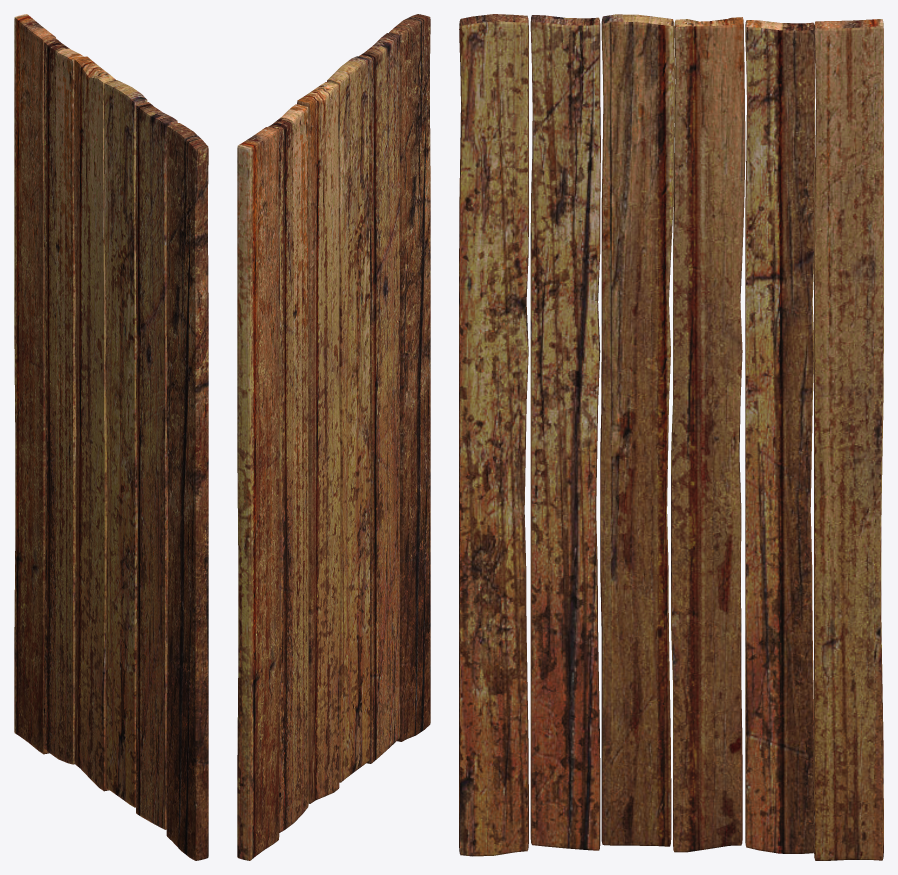
File: 木栅栏03.FBX
The picture shows the model from 3 angles, left to right: view 1: azimuth 30°, elevation 25°; view 2: azimuth 150°, elevation 25°; view 3: azimuth 270°, elevation 25°; orthographic projection. The views are drawn at different scales.
Visible parts, largest first — view 1: Box13; view 2: Box13; view 3: Box13.
Boxes of the visible parts, box(x1,y1,x2,y2) form: Box13: box(14, 14, 208, 860); Box13: box(237, 14, 430, 860); Box13: box(459, 14, 883, 860).
Size of the model in its own units: 1.82 by 39.57 by 86.54.
